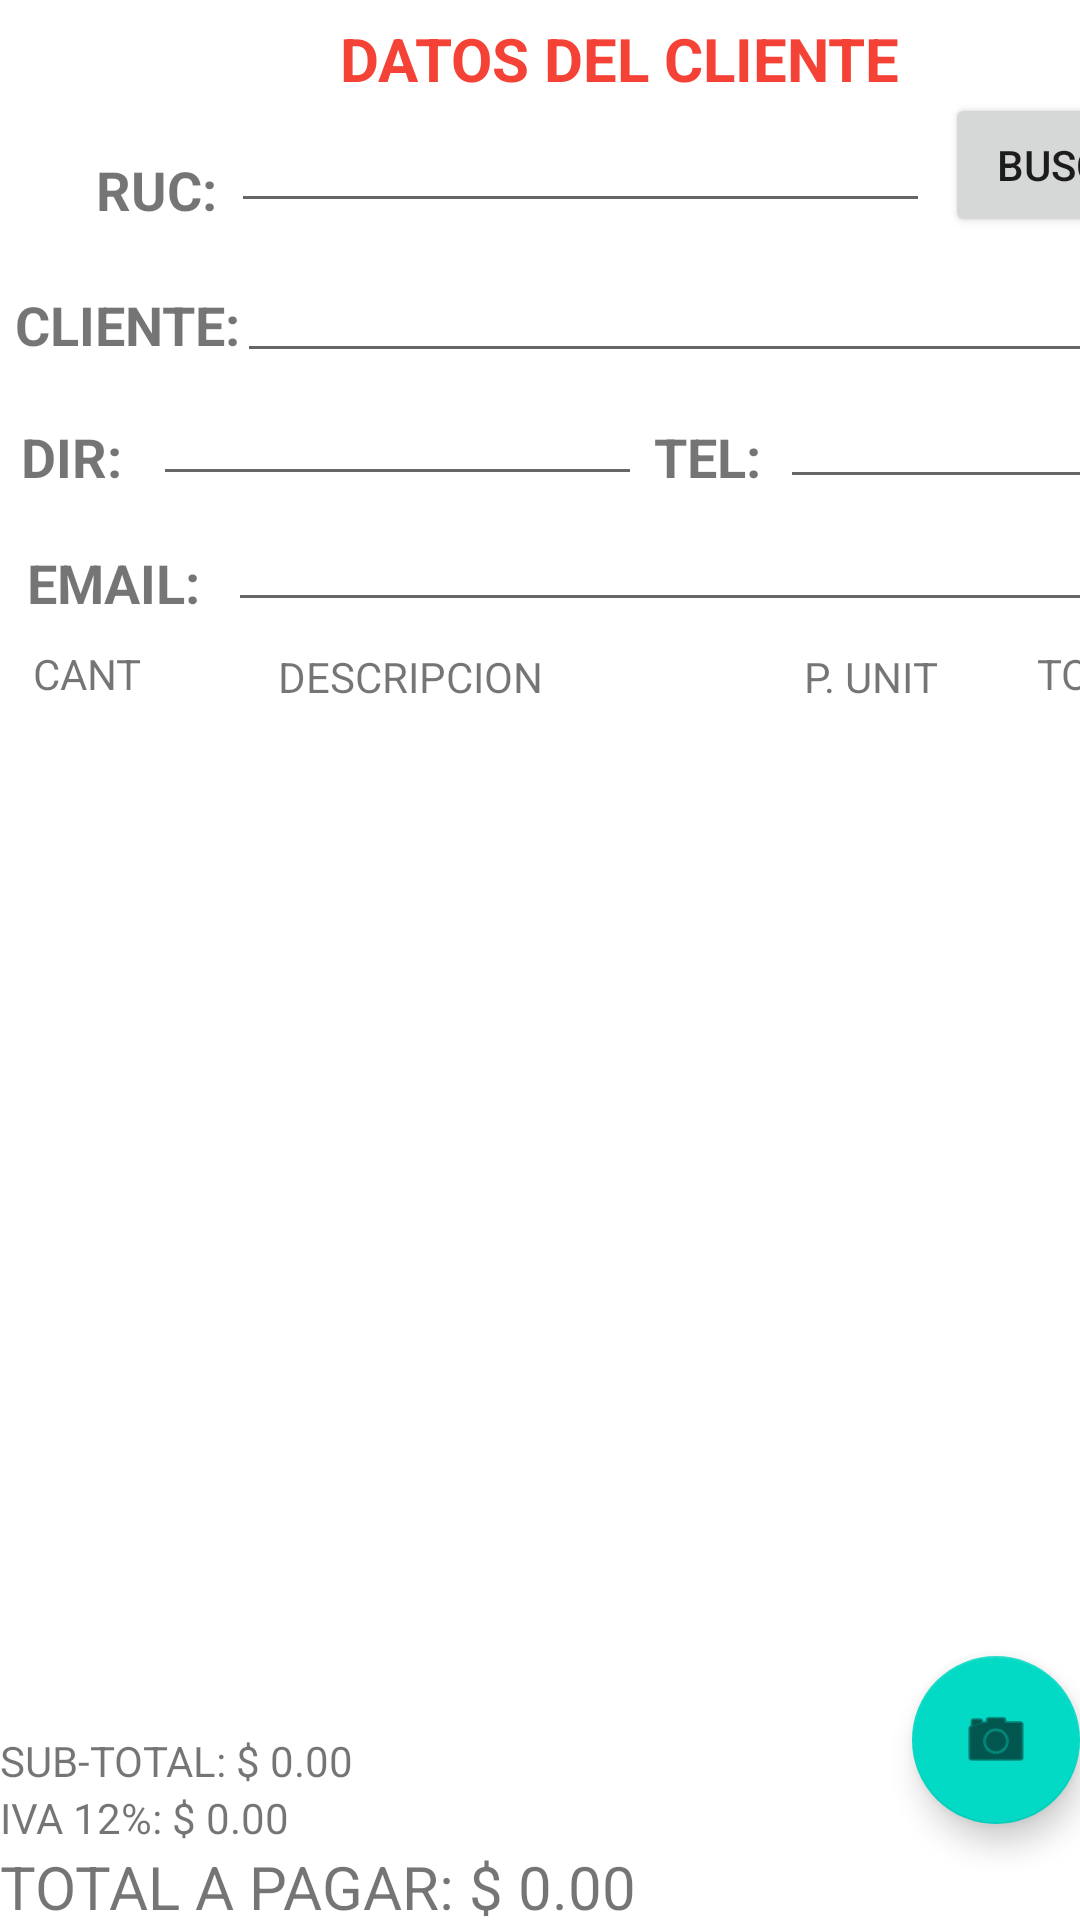

Where to tap for icons on this 1080px×1920px app screen, as [x,y]:
camera: [996,1740]
